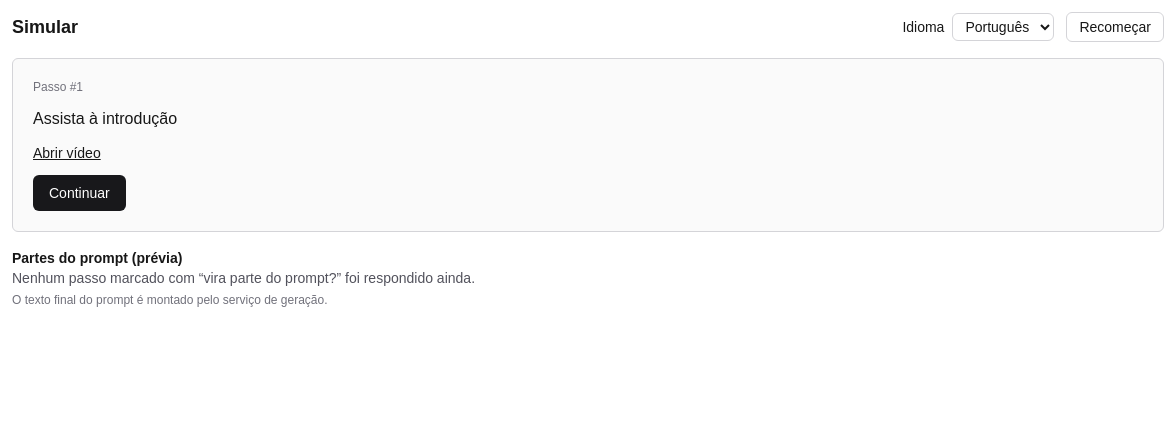
Test: FlowSimulator › walks the flow following option jumps and shows the prompt parts
Check: the text "Assista à introdução" is shown, box [33,110,177,127]
Click the button "Continuar".
click(79, 193)  # box [33,175,126,211]
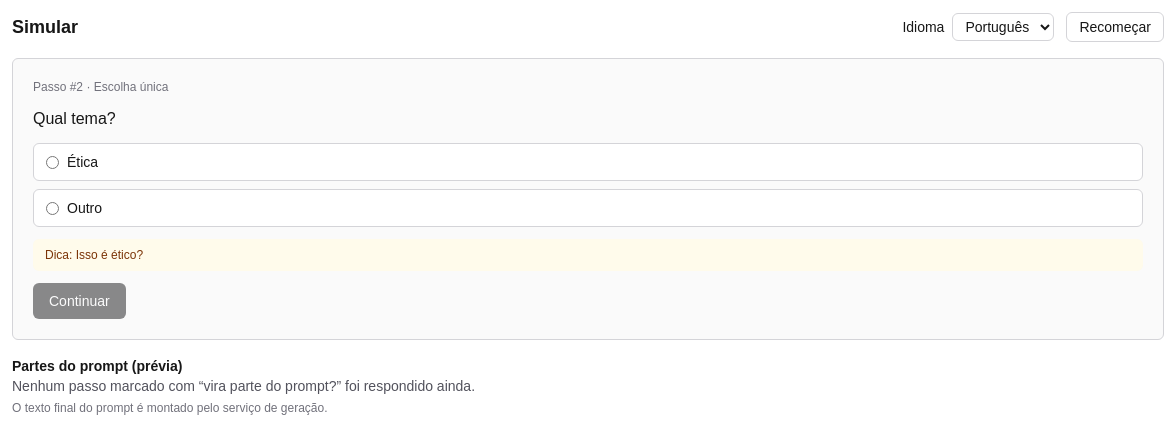
Check: the text "Qual tema?" is shown, box [33,110,116,127]
Check: the text "Dica: Isso é ético?" is shown, box [45,248,143,262]
Click the radio button labelled "Ética".
click(52, 162)  # box [46,156,59,168]
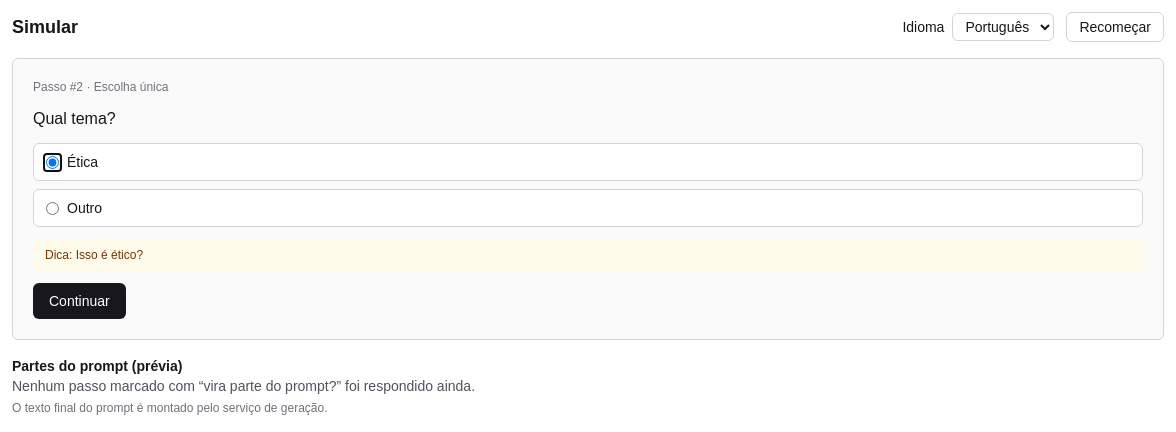
Click the button "Continuar".
click(79, 301)  # box [33,283,126,319]
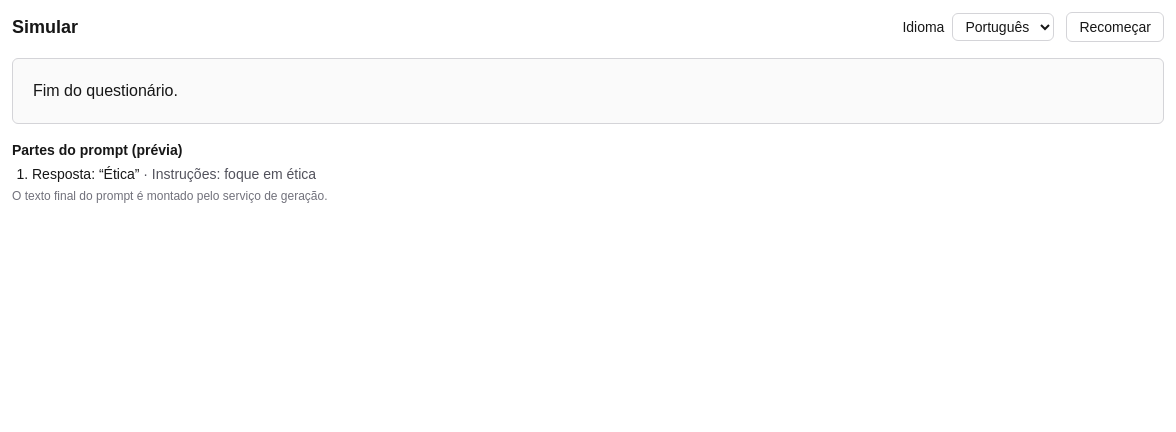
Check: the text "Fim do questionário." is shown, box [33,82,178,99]
Check: the text "Resposta: “Ética”" is shown, box [32,166,139,182]
Check: the text "· Instruções: foque em ética" is shown, box [139,166,316,182]
